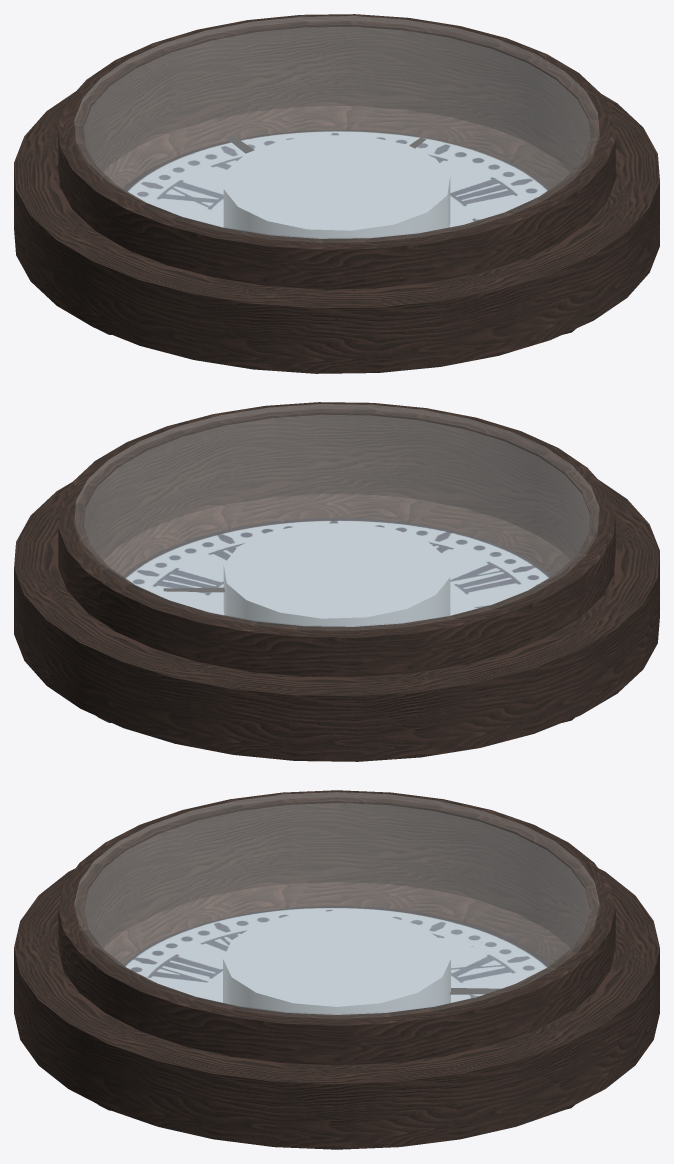
File: table horloge.fbx
The picture shows the model from 3 angles, top to bottom: view 1: azimuth 30°, elevation 25°; view 2: azimuth 150°, elevation 25°; view 3: azimuth 270°, elevation 25°; orthographic projection.
Parts seen in each view (by area): view 1: Circle.001; view 2: Circle.001; view 3: Circle.001.
Boxes of the visible parts, <box> form: Circle.001: <box>14,14,659,373</box>; Circle.001: <box>14,402,659,761</box>; Circle.001: <box>14,790,659,1149</box>.
Bounding box in the file's own units: 160 × 41.59 × 160.
